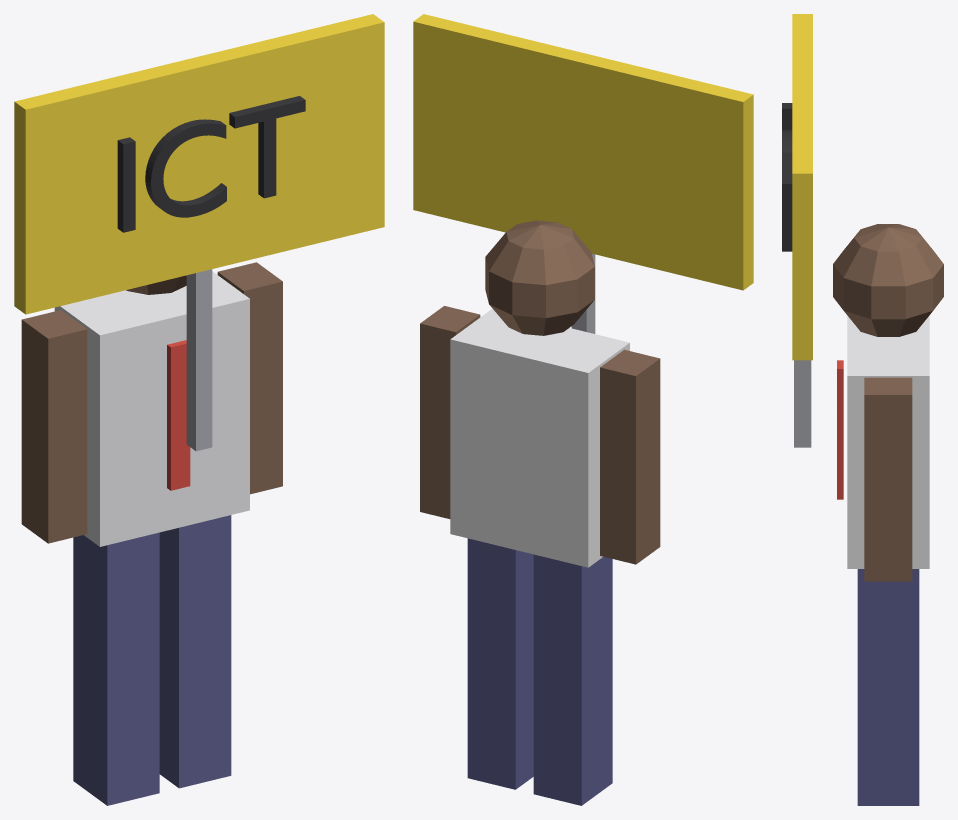
File: PR_ICTMan.glb
3 renders of one model, left to right at view 1: azimuth 30°, elevation 25°; view 2: azimuth 150°, elevation 25°; view 3: azimuth 270°, elevation 25°, orthographic. The views are drawn at different scales.
Visible parts, largest first — view 1: PR_ICTMan; view 2: PR_ICTMan; view 3: PR_ICTMan.
Part boxes in pixels (left/top/right/bottom): PR_ICTMan: left=14, top=14, right=384, bottom=805; PR_ICTMan: left=413, top=14, right=753, bottom=805; PR_ICTMan: left=782, top=14, right=943, bottom=805.
Bounding box in the file's own units: 1.1 × 2.2 × 0.4717.
